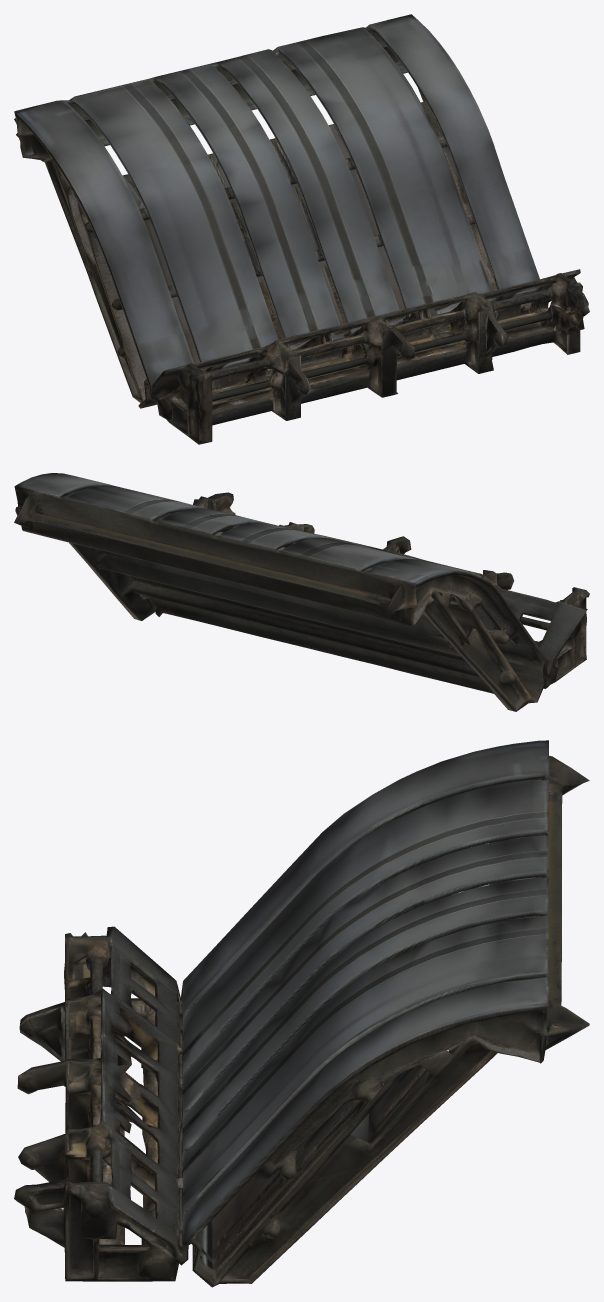
Rendered from Incline.glb.
The picture shows the model from 3 angles, top to bottom: view 1: azimuth 30°, elevation 25°; view 2: azimuth 150°, elevation 25°; view 3: azimuth 270°, elevation 25°; orthographic projection. The views are drawn at different scales.
Parts seen in each view (by area): view 1: Mesh_0; view 2: Mesh_0; view 3: Mesh_0.
Boxes of the visible parts, x1=… form: Mesh_0: x1=14, y1=14, x2=589, y2=444; Mesh_0: x1=14, y1=473, x2=589, y2=711; Mesh_0: x1=14, y1=740, x2=589, y2=1287.
Size of the model in its own units: 1.91 by 0.9155 by 1.67.
1 material, 1 textured.
